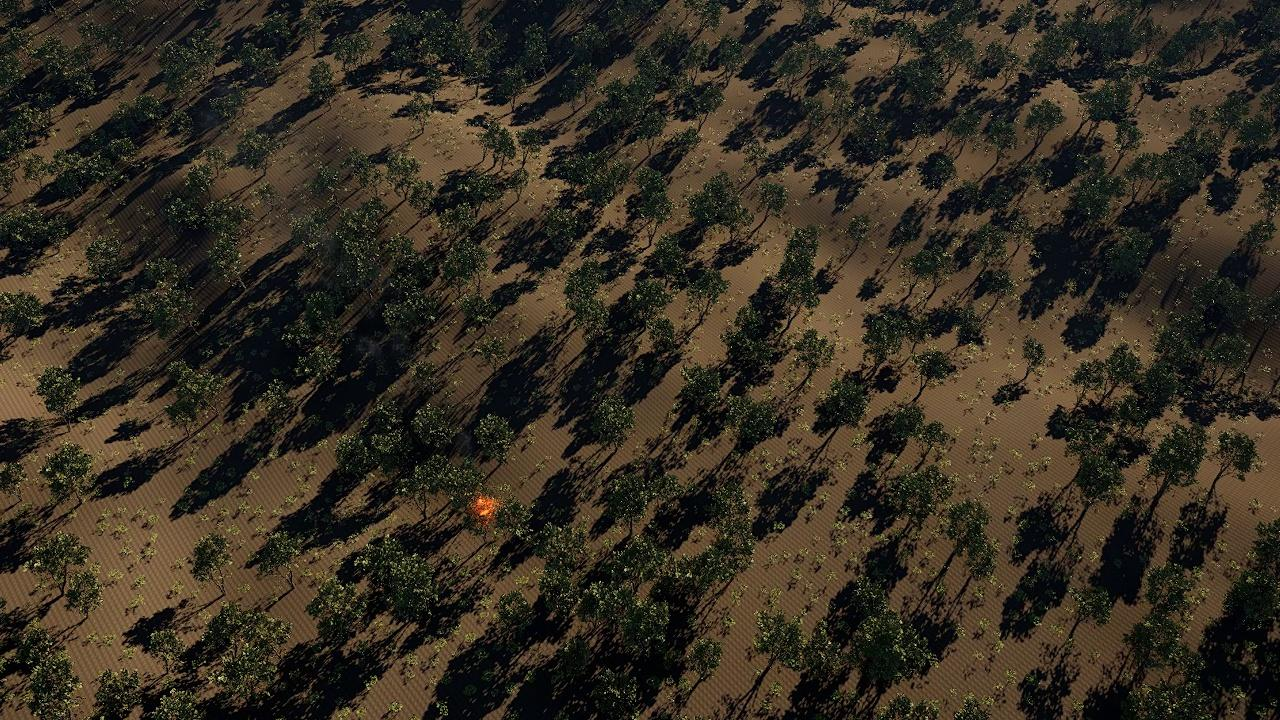fire: (474, 497, 501, 520)
